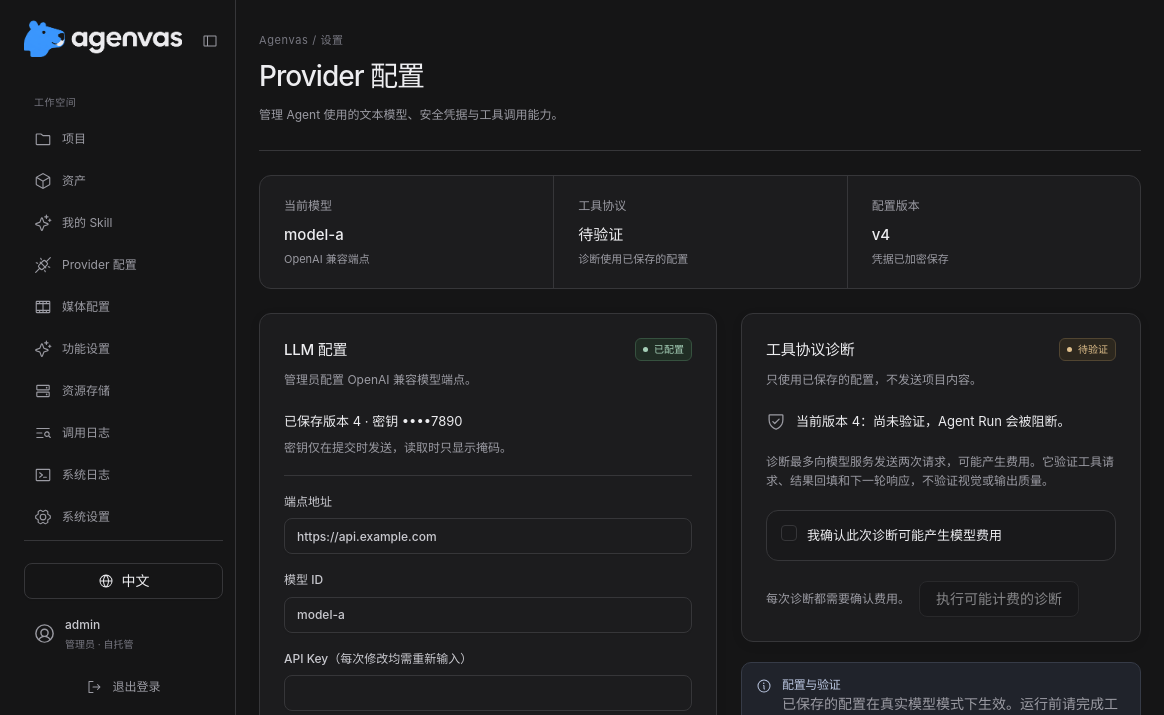
Test: LlmSettingsPage › refreshes a diagnostic conflict, preserves the edit base, and lets the user diagnose the latest version
The width and height of the screenshot is (1164, 715).
Type "x" into the field labelled "模型 ID" at {"x": 488, "y": 615}, box [284,597,692,633]
Then press Backspace
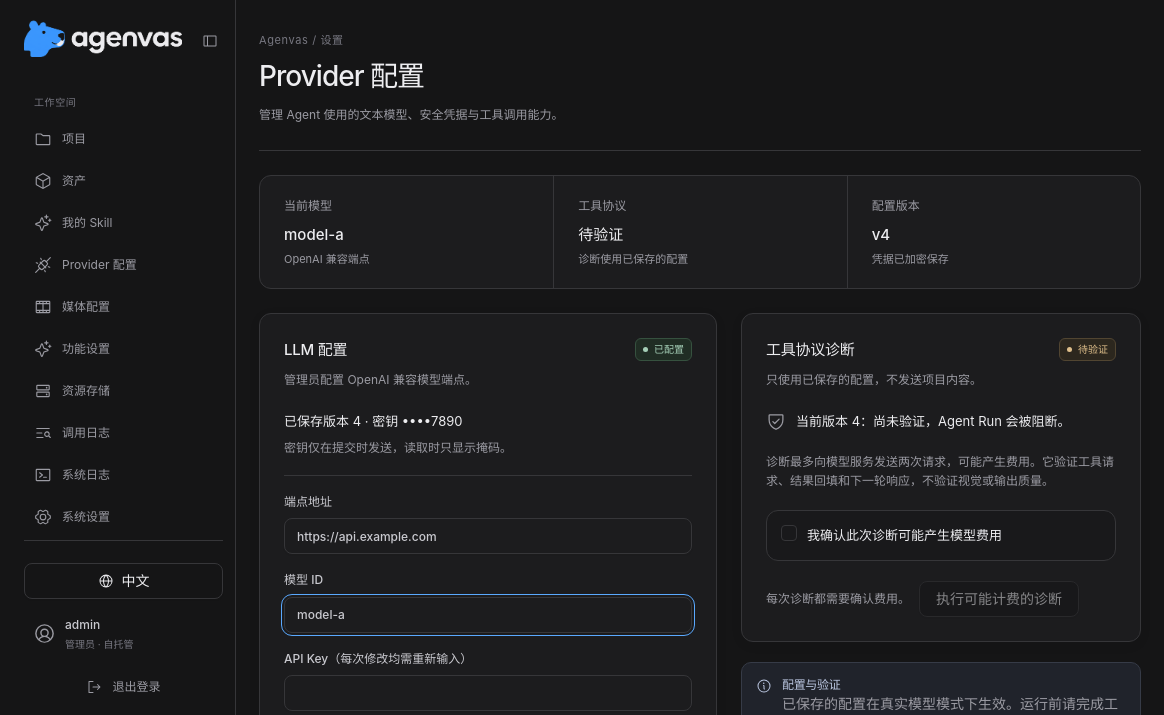
Click the checkbox named "我确认此次诊断可能产生模型费用" at {"x": 789, "y": 533}, box [781,525,797,541]
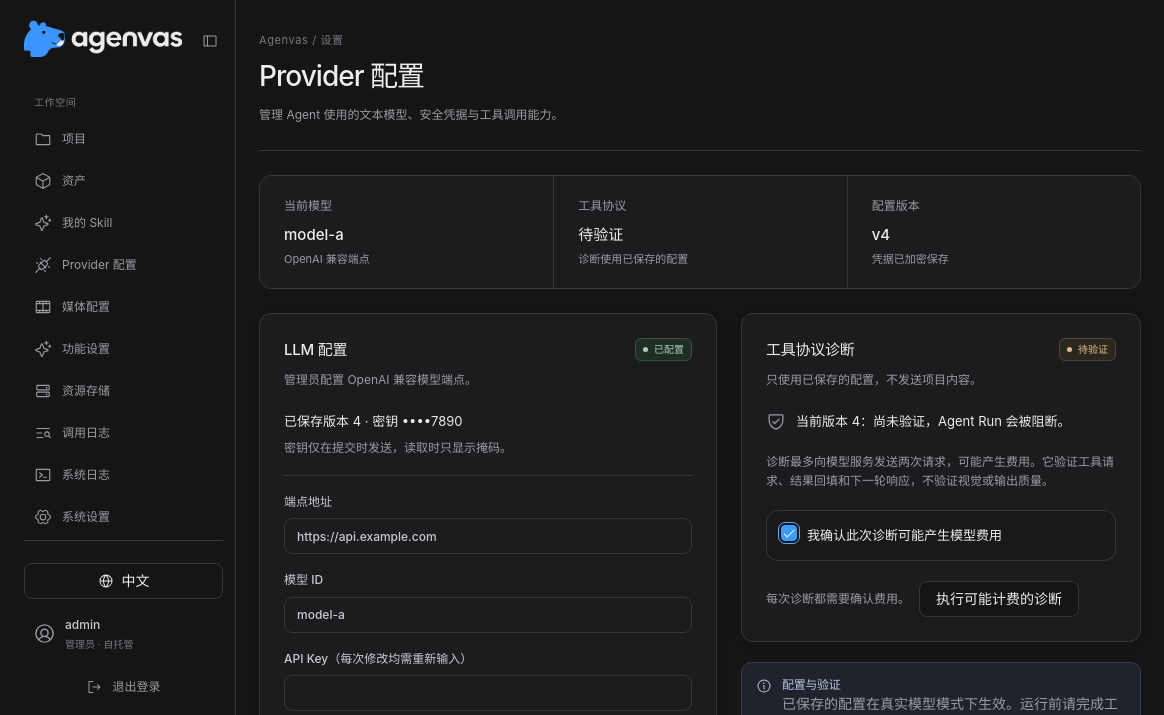
Click the button "执行可能计费的诊断" at {"x": 999, "y": 599}, box [919,581,1079,617]
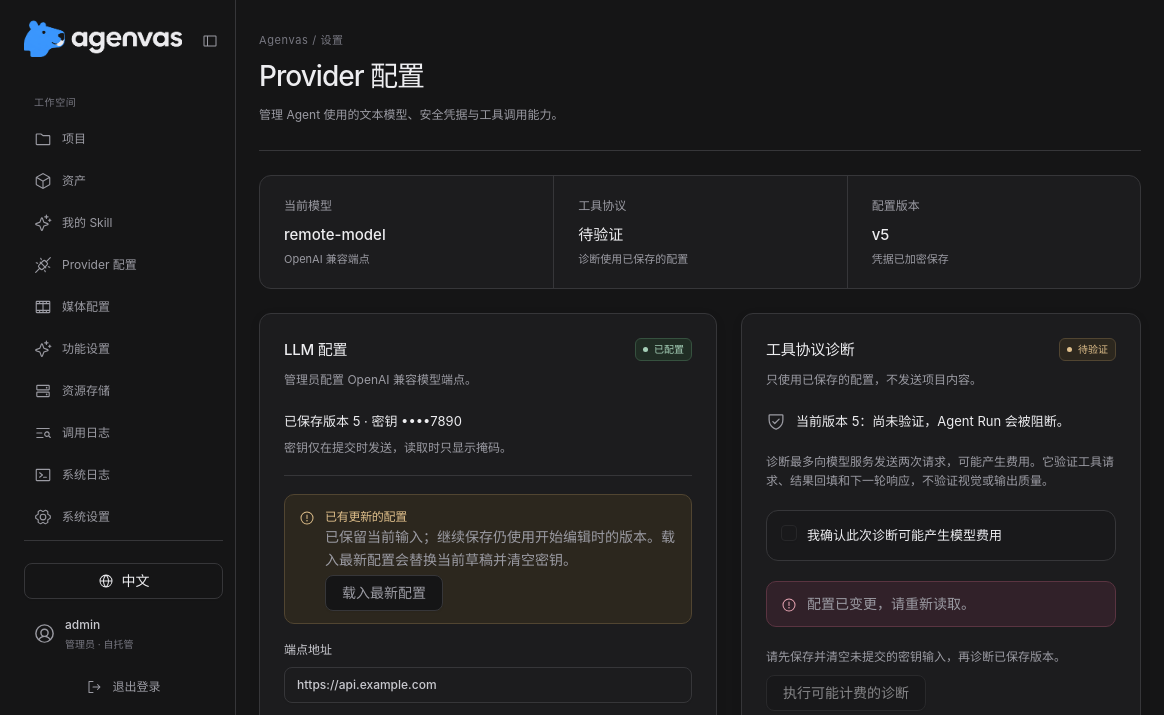
Result: the message reads "配置已变更，请重新读取。" at [807,595,975,612]
Result: the text "已有更新的配置" is shown at [325,509,407,524]
Click the button "载入最新配置" at {"x": 384, "y": 593}, box [325,575,443,611]
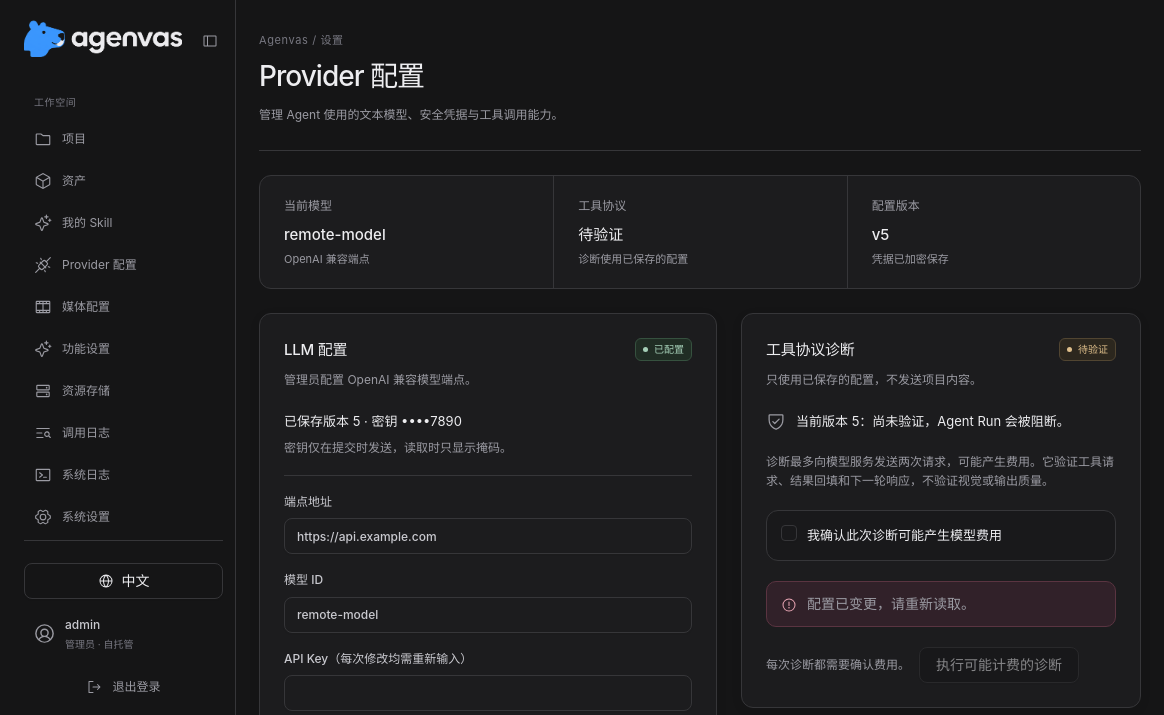
Result: the button "执行可能计费的诊断" is disabled at [919,647,1079,683]
Result: the field labelled "模型 ID" holds "remote-model" at [284,597,692,633]
Click the checkbox named "我确认此次诊断可能产生模型费用" at {"x": 789, "y": 533}, box [781,525,797,541]
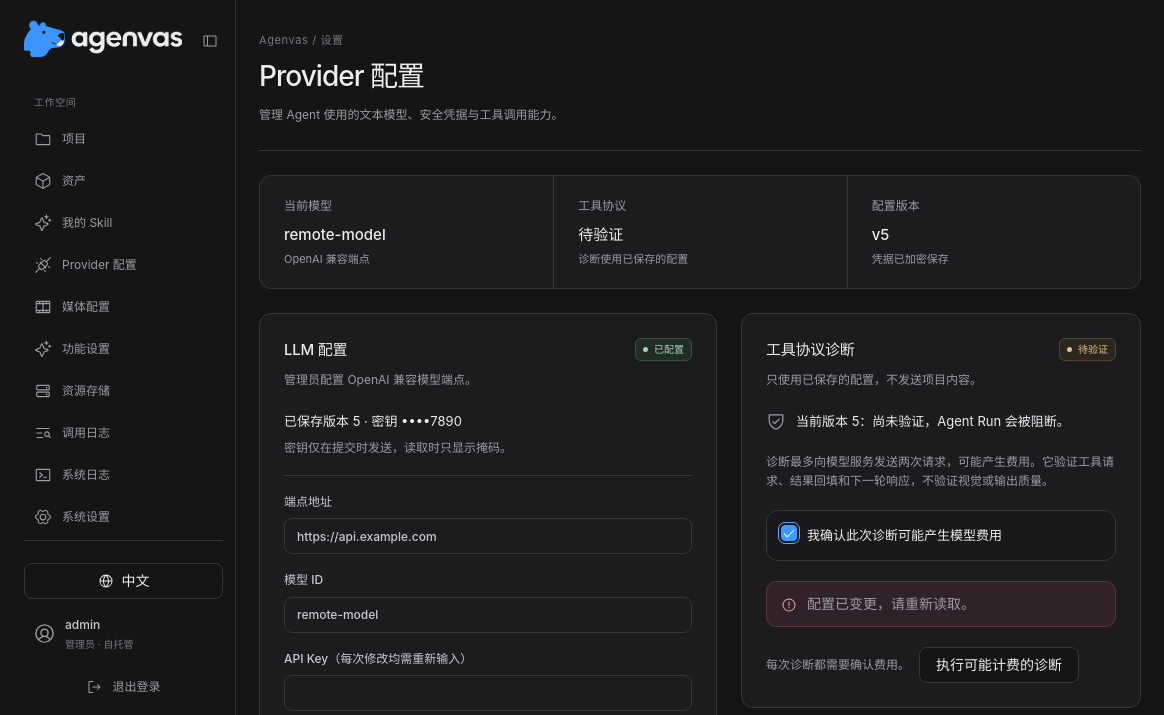
Click the button "执行可能计费的诊断" at {"x": 999, "y": 665}, box [919,647,1079,683]
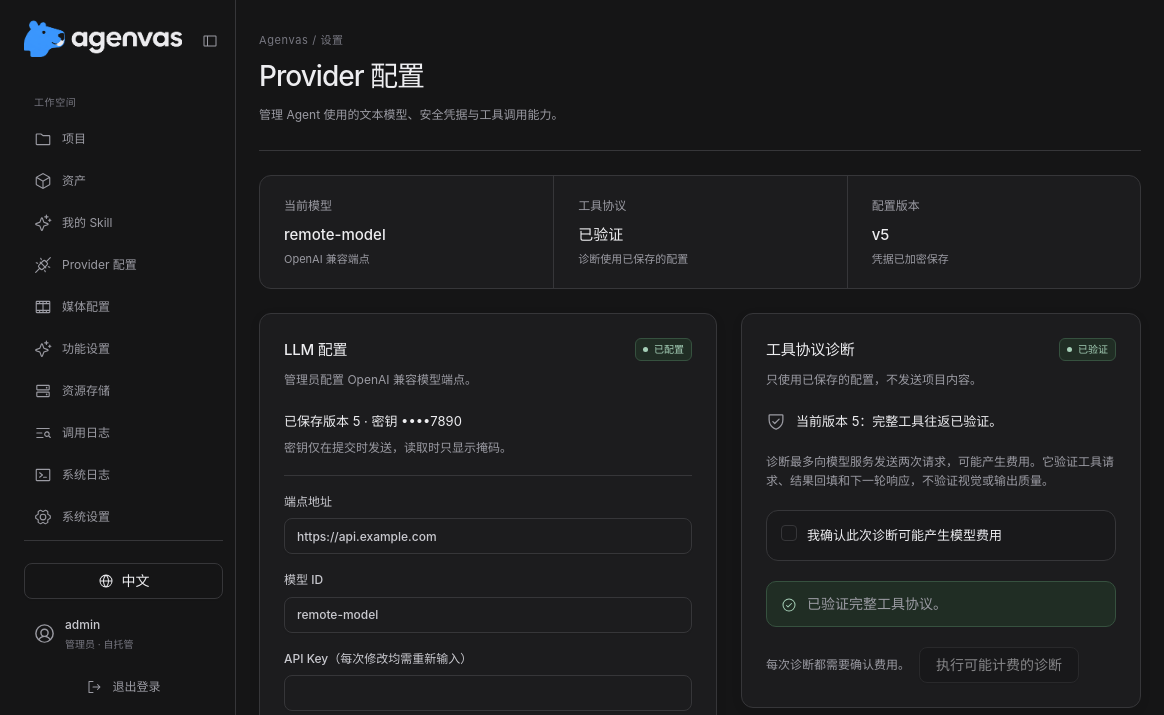
Result: the text "已验证完整工具协议。" is shown at [807,594,947,614]
